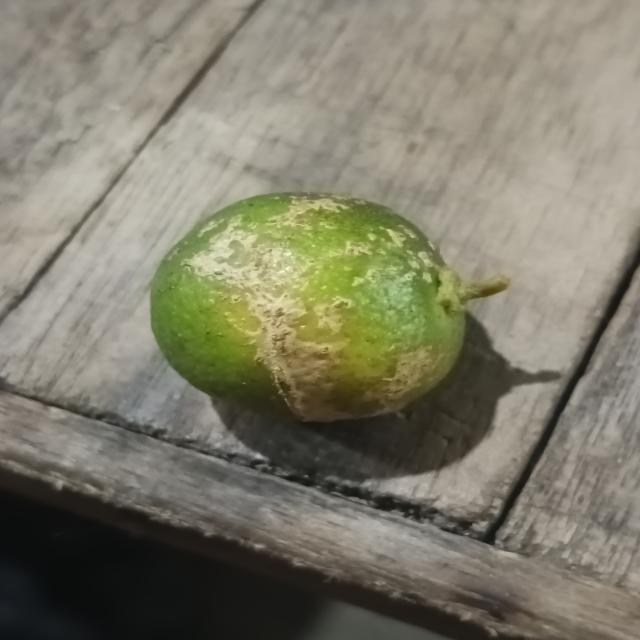thrips: (142, 188, 472, 428)
